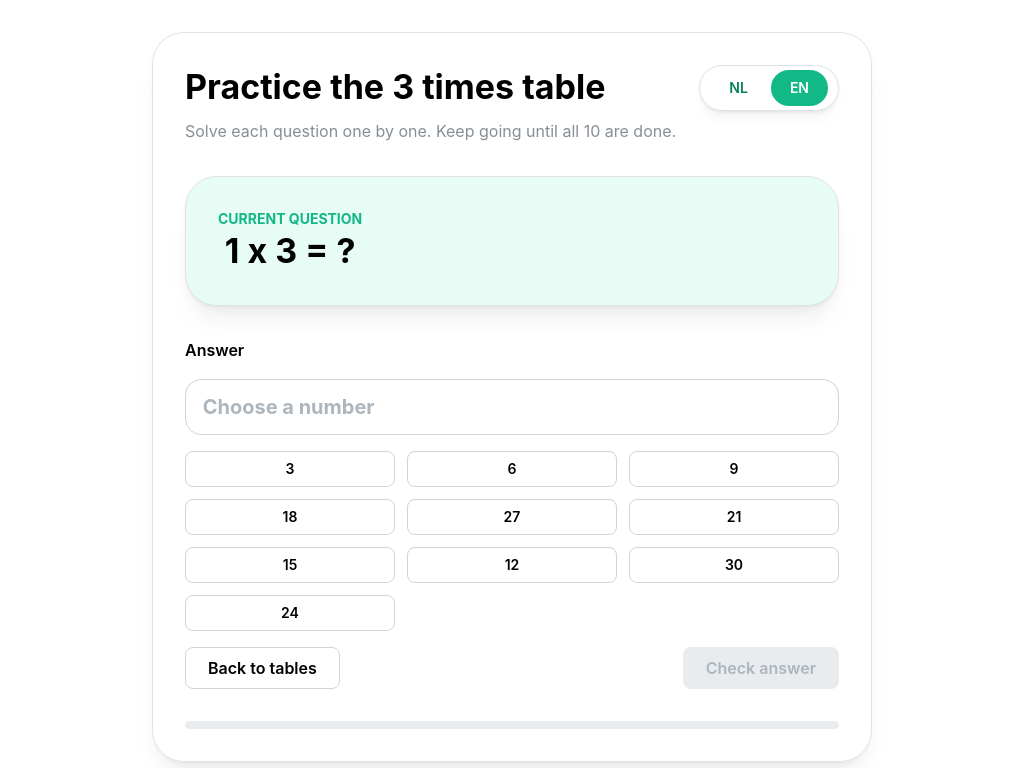
Scenario: GIVEN a question is shown, WHEN I select several answers before submitting, THEN the currently selected answer wins
Click the button "6": click(512, 469) 407,451 -> 617,487
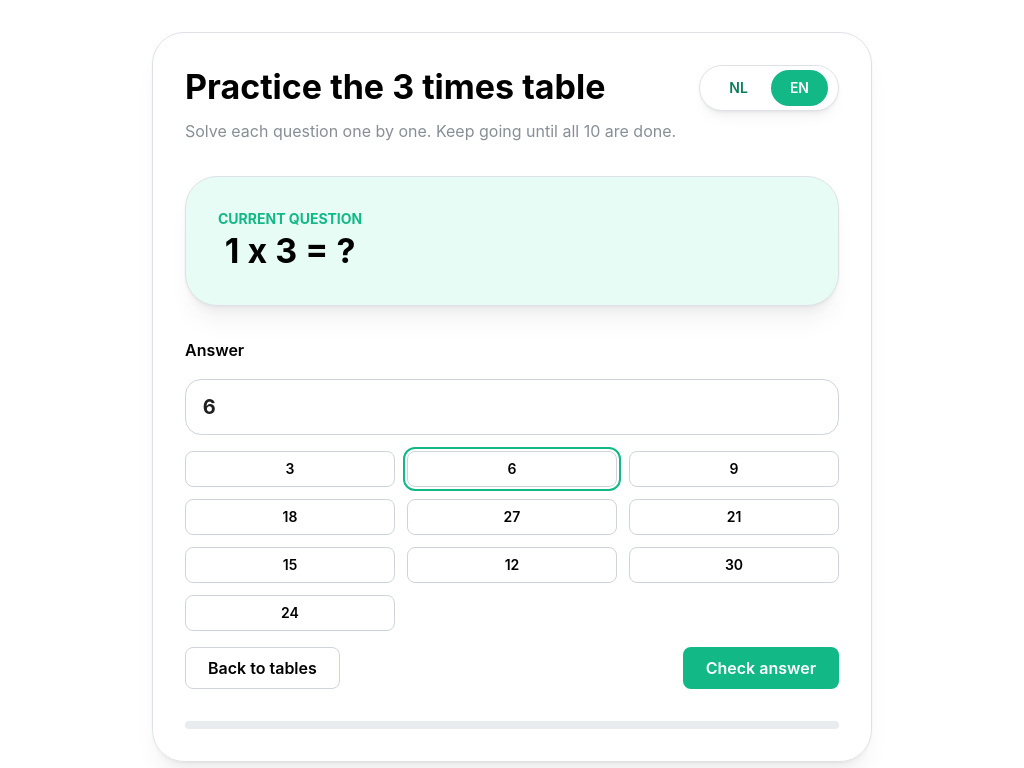
Click the button "9": click(734, 469) 629,451 -> 839,487
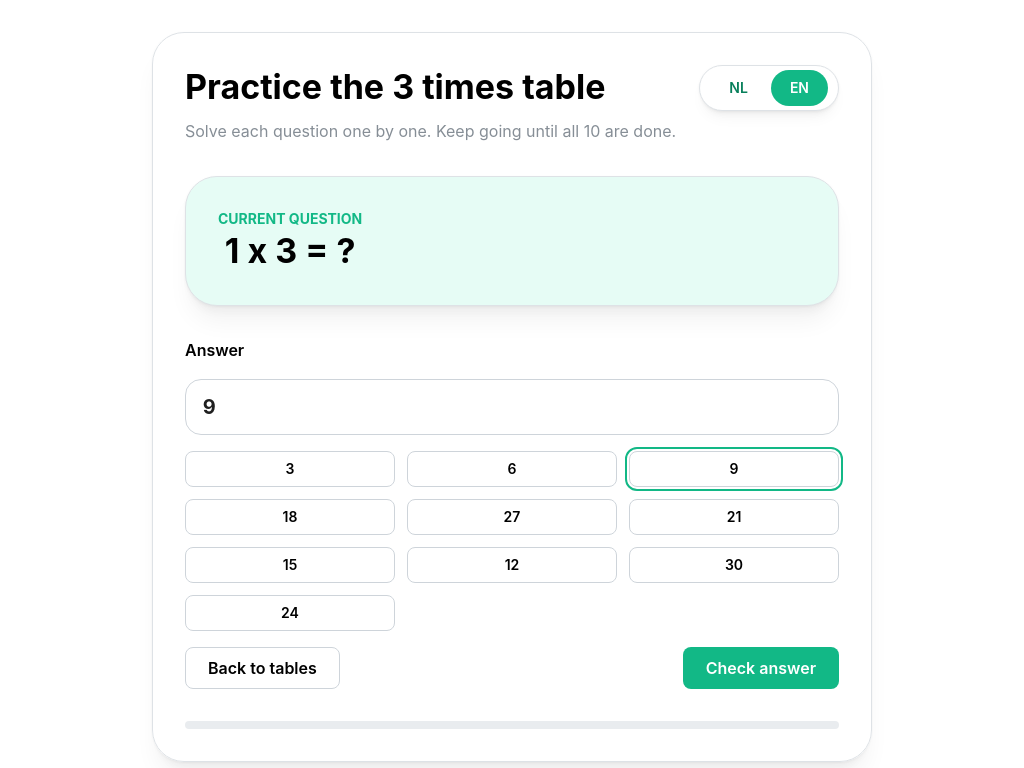
Check: the field holds "9", box 185,379 -> 839,435
